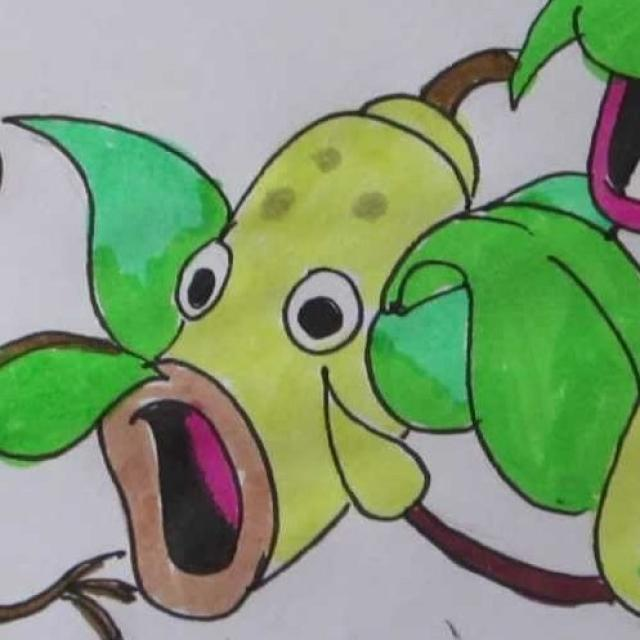Weepinbell: (92, 92, 479, 609)
